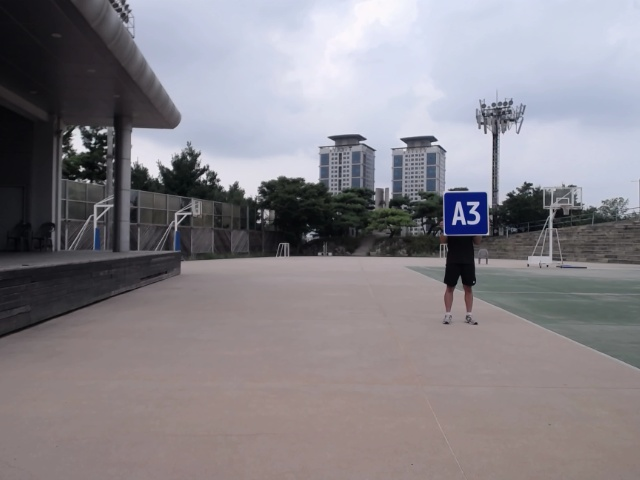delivery_a3: (444, 192, 489, 235)
